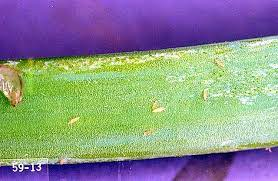Thrips: (58, 112, 81, 129), (147, 96, 166, 115), (198, 85, 212, 100)
